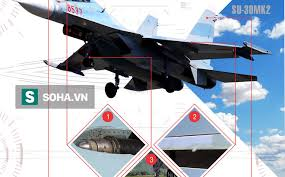maybay_muctieu: (17, 1, 262, 100)
